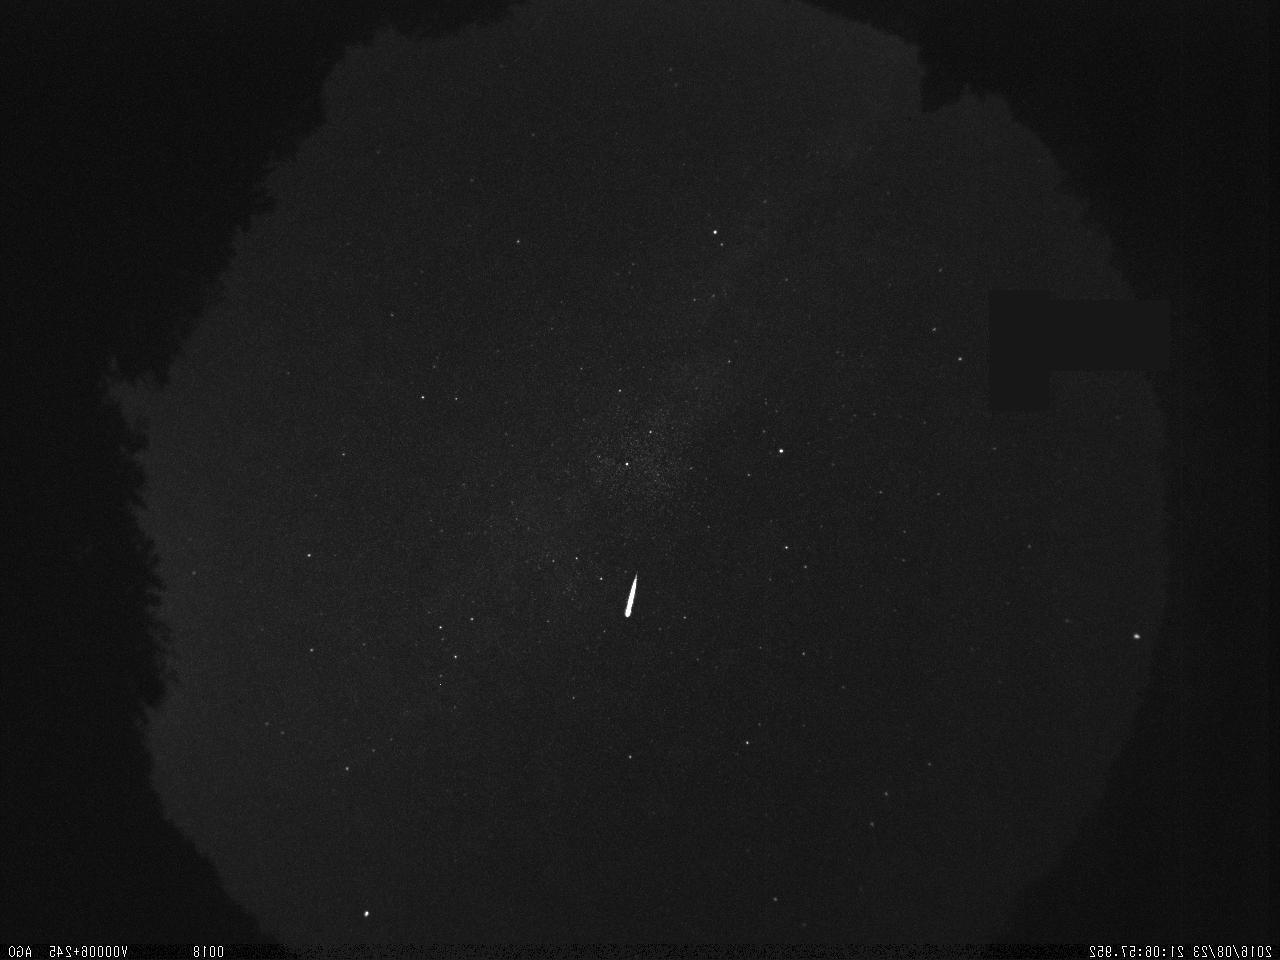meteor: (602, 567, 665, 627)
